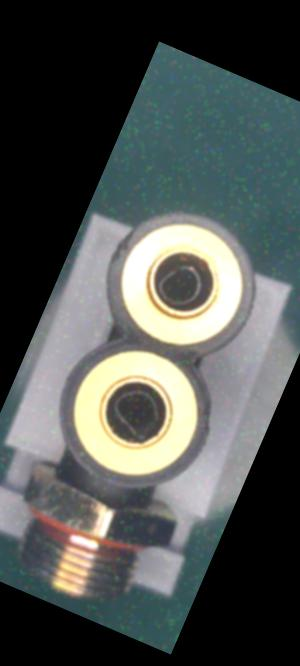bump: (94, 214, 146, 280), (193, 398, 221, 437)
off-centered: (100, 376, 171, 447), (141, 249, 213, 319)
